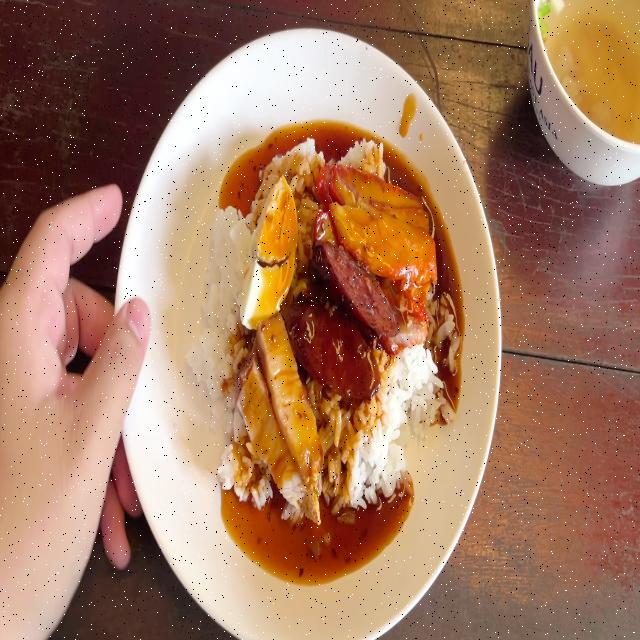boiled_egg: (238, 184, 300, 326)
chainese_sausage: (301, 246, 388, 388)
crispy_pork: (242, 320, 317, 502)
red_pork: (329, 187, 435, 264)
red_pork_and_crispy_pork: (187, 134, 458, 515)
rice: (346, 357, 438, 492), (192, 205, 245, 414)
